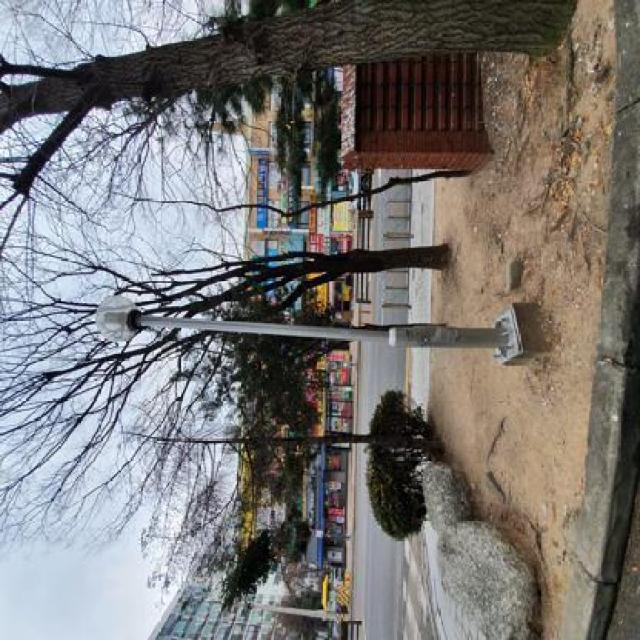pole: (88, 290, 552, 378)
